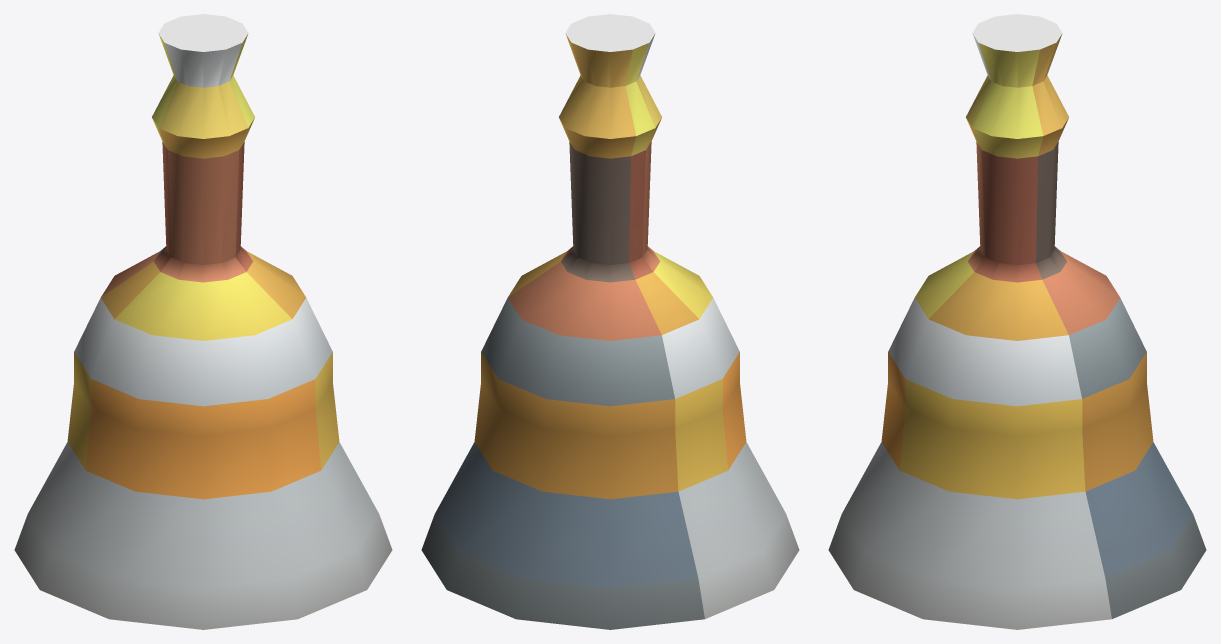
The model's file is tool_bell_silver.glb.
3 views of the same model, side by side, from view 1: azimuth 30°, elevation 25°; view 2: azimuth 150°, elevation 25°; view 3: azimuth 270°, elevation 25° (orthographic).
Visible parts, largest first — view 1: Item; view 2: Item; view 3: Item.
Part boxes in pixels (left/top/right/bottom): Item: left=14, top=14, right=392, bottom=629; Item: left=421, top=14, right=799, bottom=629; Item: left=828, top=14, right=1206, bottom=629.
Bounding box in the file's own units: 0.57 × 0.9538 × 0.57.
Materials: 4 (4 with a texture image).
